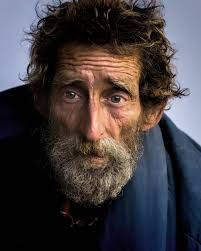no-mask: (26, 9, 173, 208)
